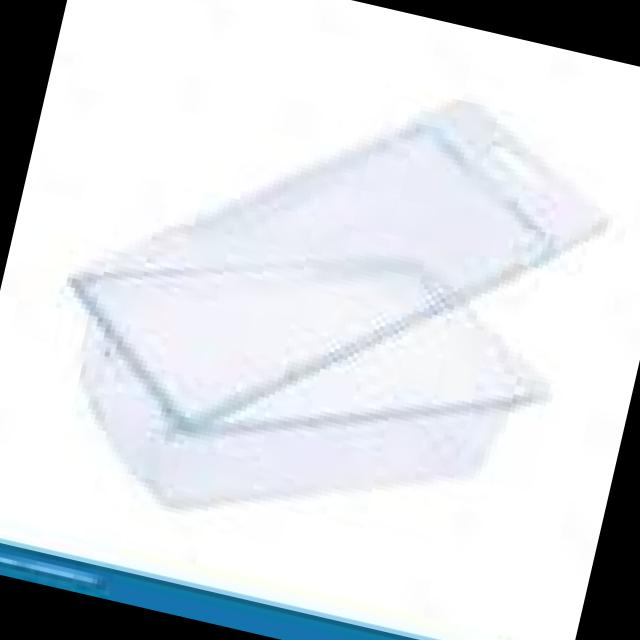Clamshell: (11, 0, 640, 595)
